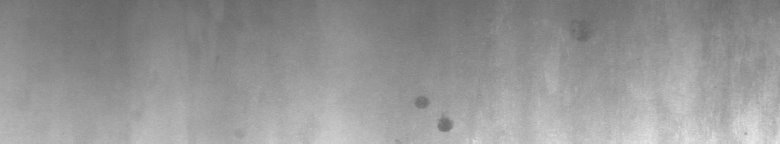fi: (415, 93, 457, 136)
